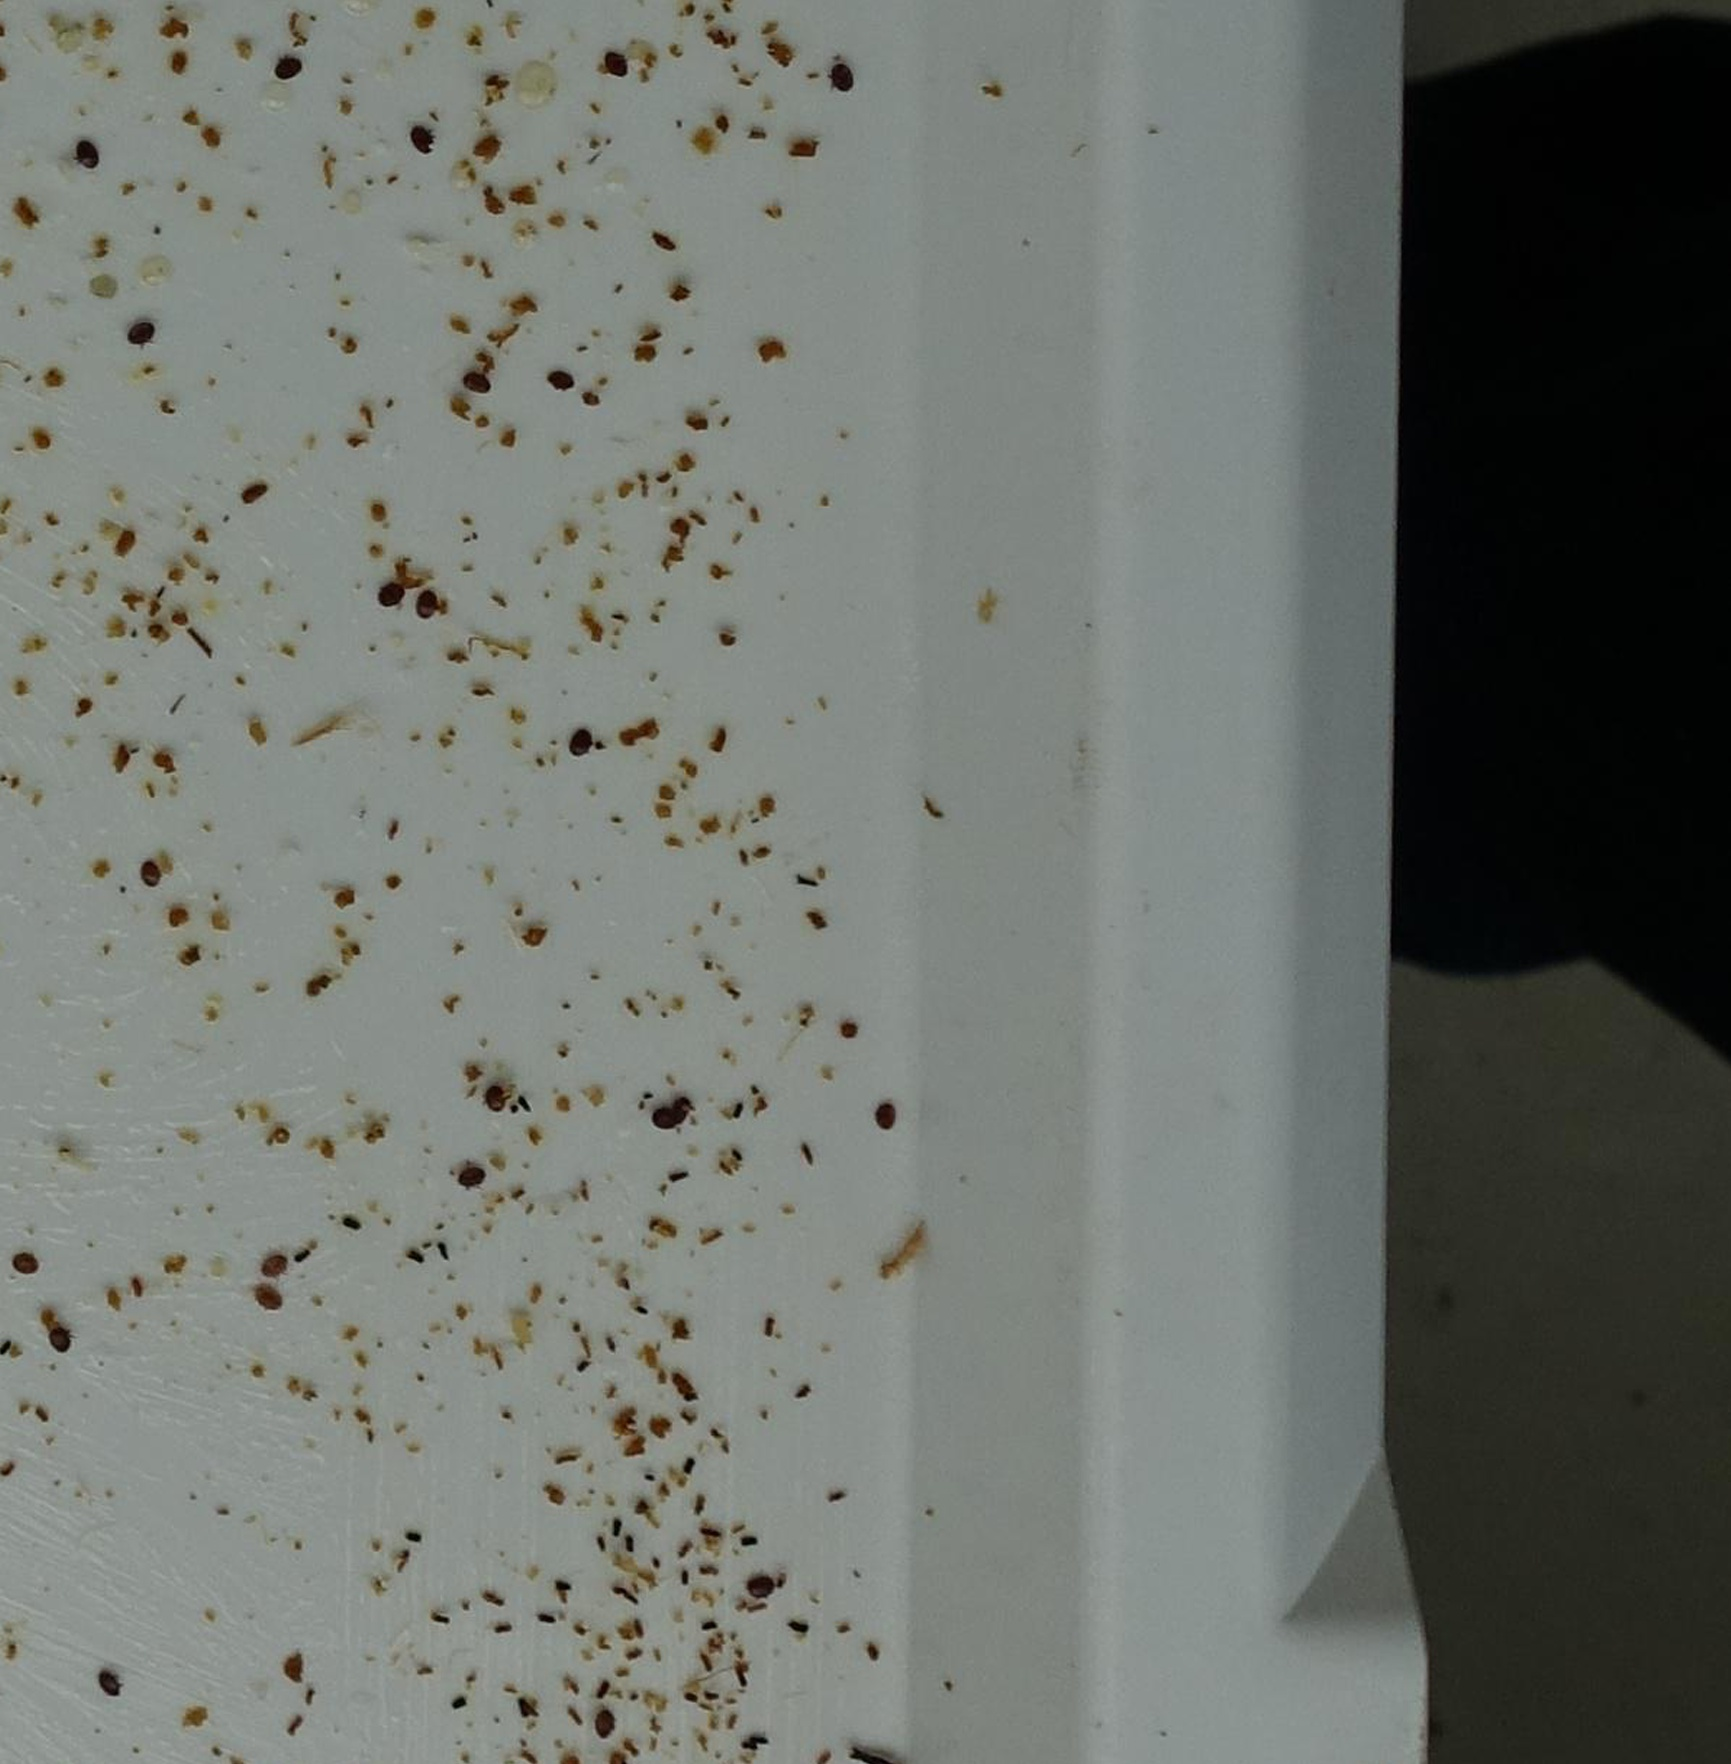Varroa: (659, 1089, 702, 1133), (254, 1243, 296, 1285), (652, 1100, 686, 1135), (71, 139, 105, 173), (255, 1279, 288, 1312), (125, 322, 159, 353), (566, 727, 598, 761), (43, 1322, 75, 1355), (376, 583, 407, 617), (545, 371, 577, 403), (411, 586, 441, 620), (11, 1250, 41, 1284), (827, 63, 858, 95), (90, 1666, 120, 1697), (480, 1089, 510, 1121), (601, 49, 631, 79), (743, 1580, 774, 1610), (460, 372, 488, 403), (867, 1098, 896, 1128), (274, 55, 303, 84), (136, 857, 165, 886), (404, 120, 433, 149), (590, 1709, 617, 1735), (458, 1162, 483, 1189)
